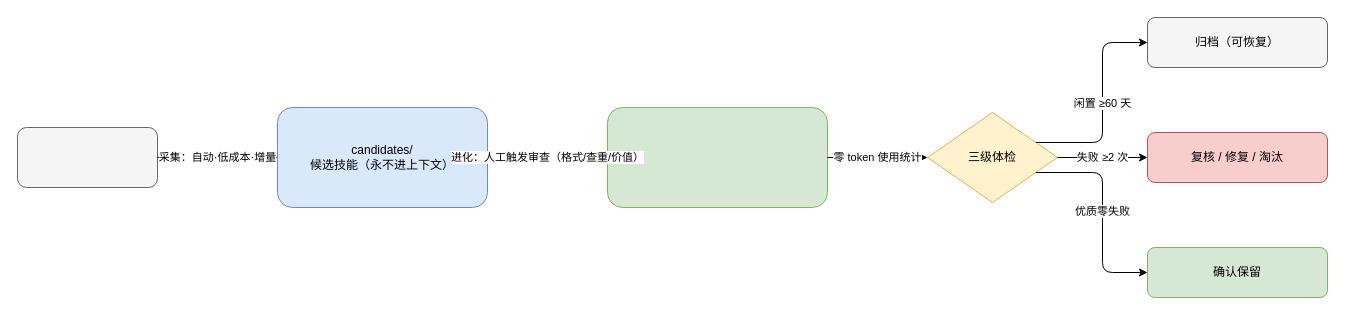
Image size: 1345x315. Some labels were removed from this diagram. The box of each missing label's shape, as (x1, y1, x2, y2) in pixels:
会话使用: (16, 126, 158, 188)
启用 = 新 skill 组件 团队走 git PR: (606, 106, 828, 208)
